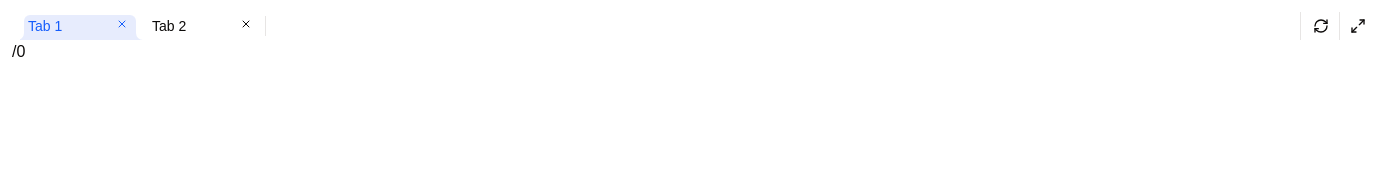
Test case: NavTab › 点击功能区刷新按钮刷新当前激活标签
The image size is (1378, 172).
Click the button named "刷新": coordinates (1321, 26) left=1307, top=12, right=1335, bottom=40
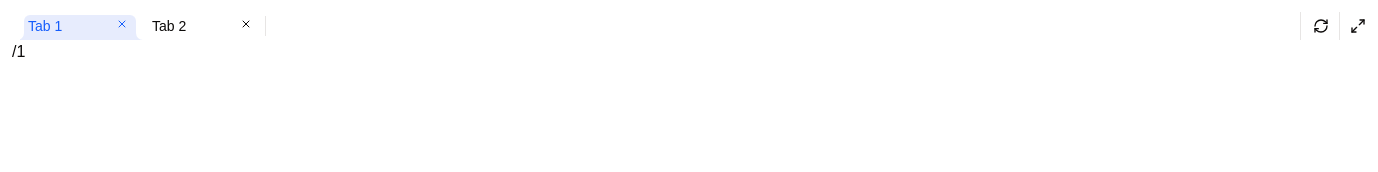
Expected: the text with test id "pathname" reads "/", left=12, top=43, right=16, bottom=60
Expected: the text with test id "refresh-count" reads "1", left=16, top=43, right=25, bottom=60
